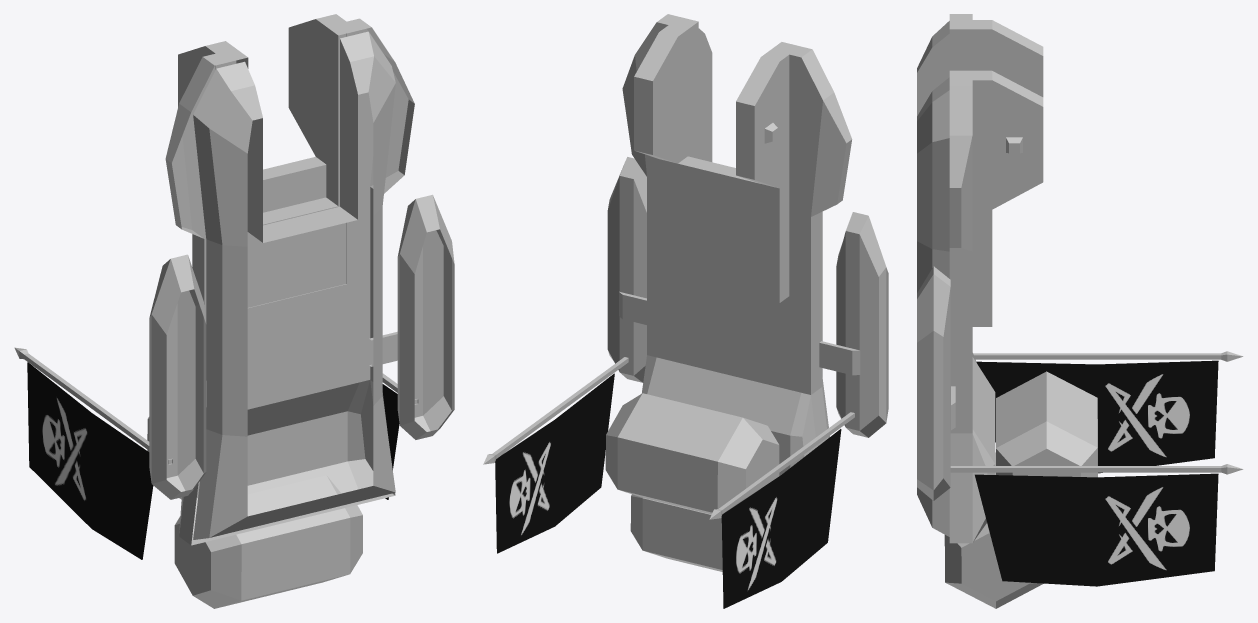
File: gas_my_4_body.fbx
3 views of the same model, side by side, from view 1: azimuth 30°, elevation 25°; view 2: azimuth 150°, elevation 25°; view 3: azimuth 270°, elevation 25° (orthographic). The views are drawn at different scales.
Visible parts, largest first — view 1: Cube.417; view 2: Cube.417; view 3: Cube.417.
Part boxes in pixels (x1,y1,x2,y2): Cube.417: [14, 14, 454, 608]; Cube.417: [483, 14, 888, 608]; Cube.417: [917, 14, 1243, 608].
Size of the model in its own units: 356 by 642 by 356.
